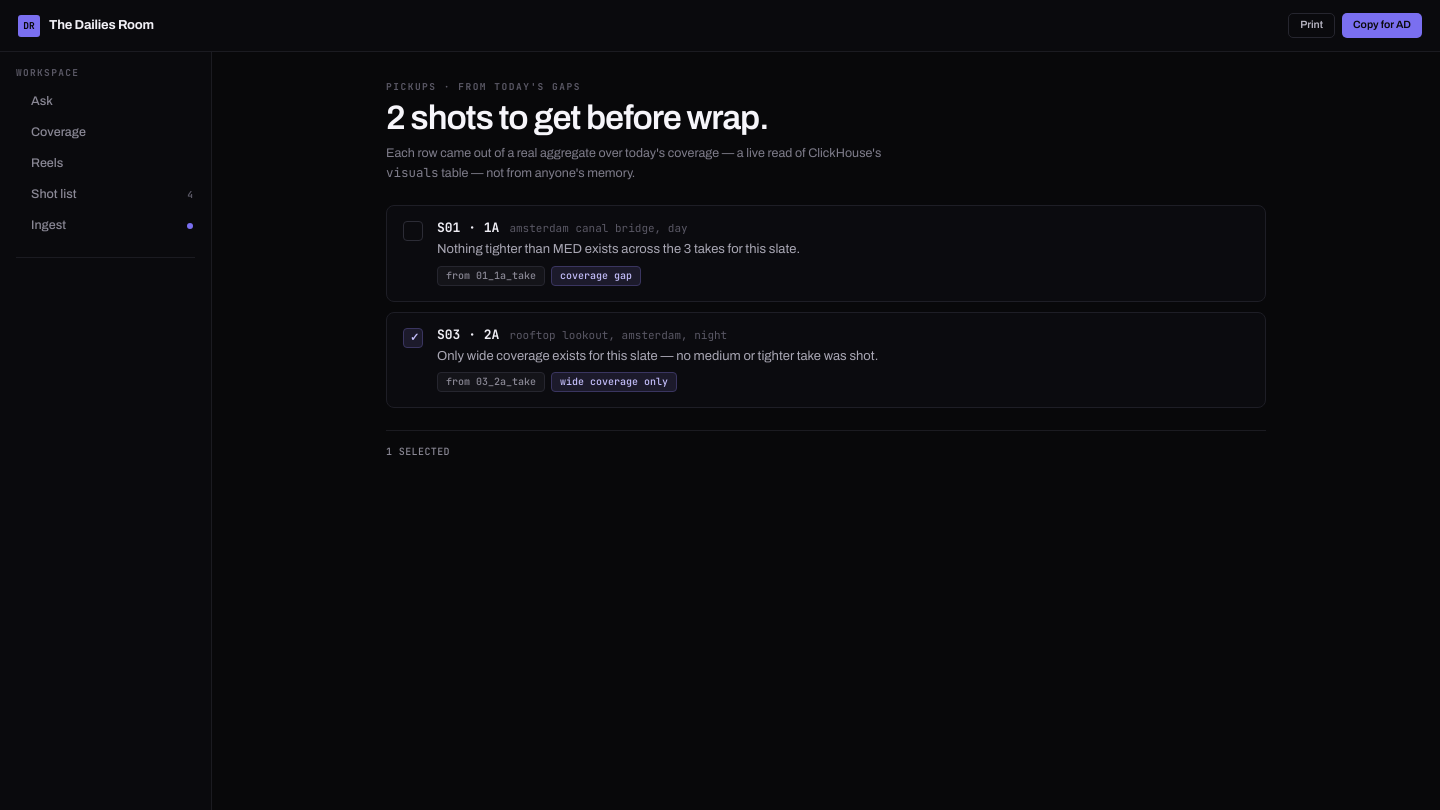
Test case: ShotListPage › Copy for AD copies a real formatted list to the clipboard, honestly labeled
The image size is (1440, 810).
Expected: the text "S01 · 1A" is shown, [437, 221, 499, 234]
Click the button "Copy for AD" at (1382, 26), box [1342, 13, 1422, 38]
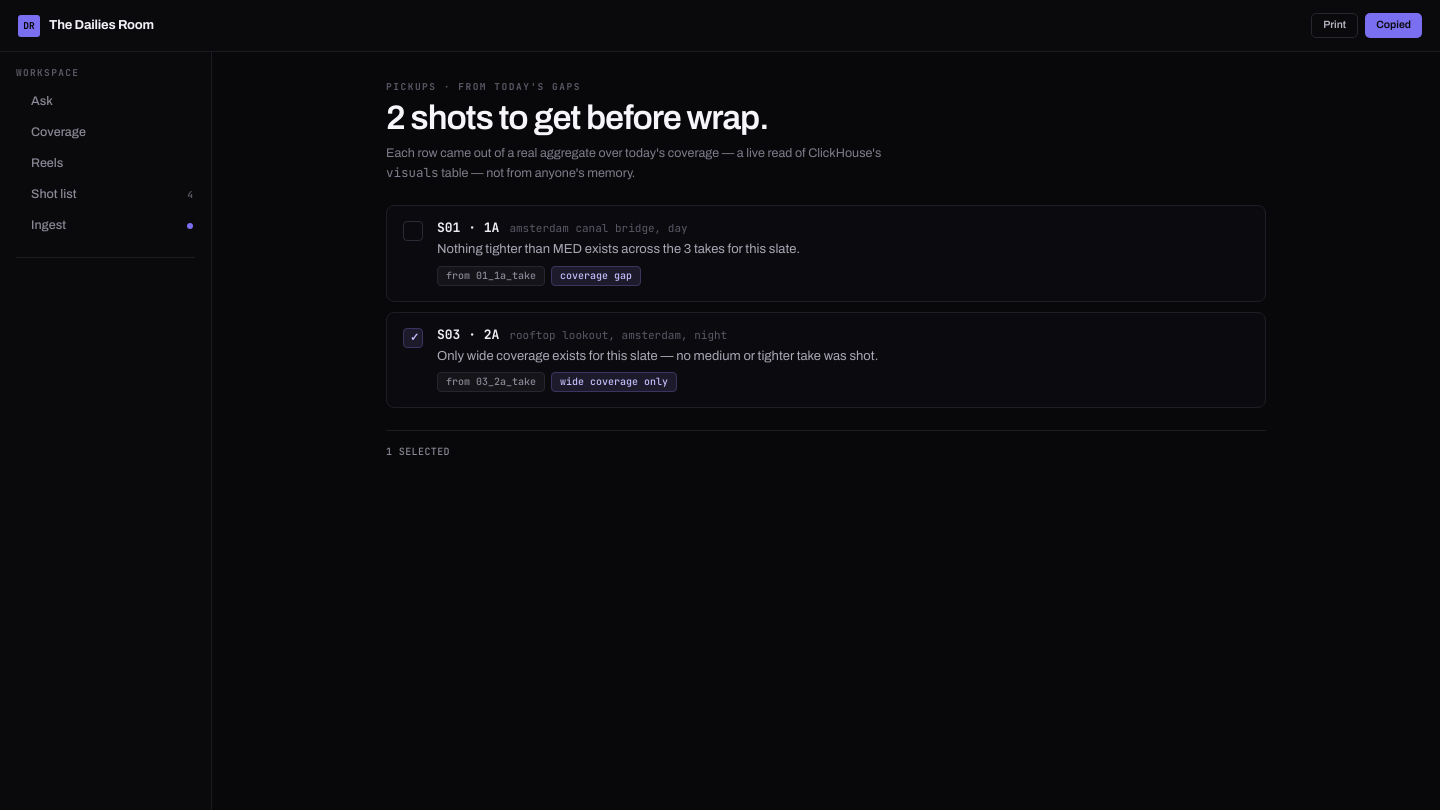
Result: the button "Copied" is shown at [1365, 13, 1422, 38]
